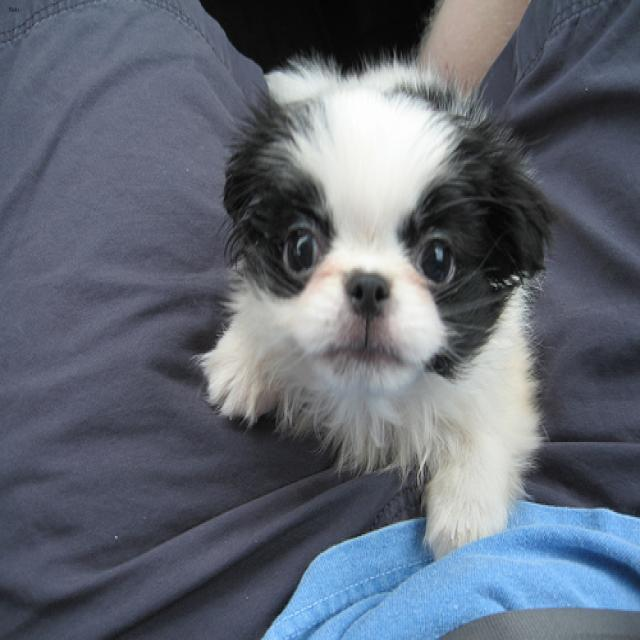dog-japanese_chin: (184, 49, 566, 577)
